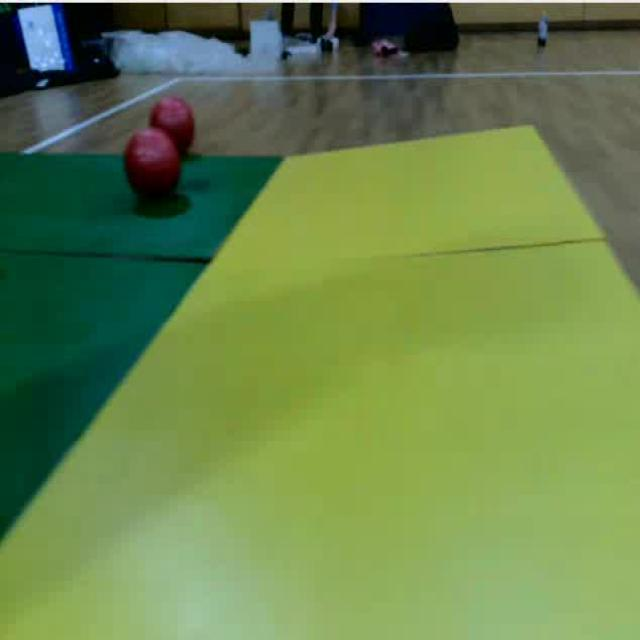red_ball: (122, 126, 181, 207), (147, 96, 194, 156)
